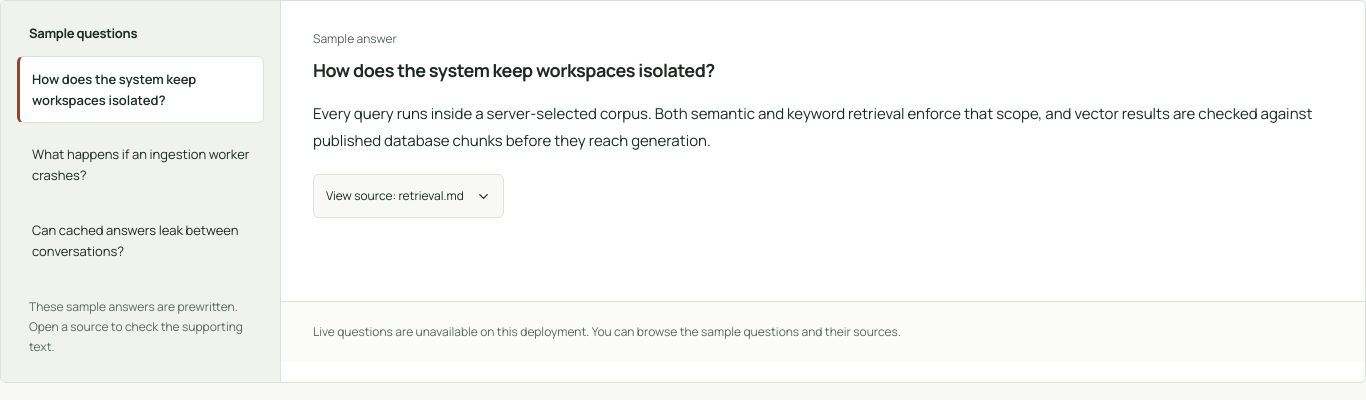
Scenario: public demo › updates the answer and selected question together
Click the button "What happens if an ingestion worker crashes?".
click(140, 165)  # box [17, 132, 264, 199]
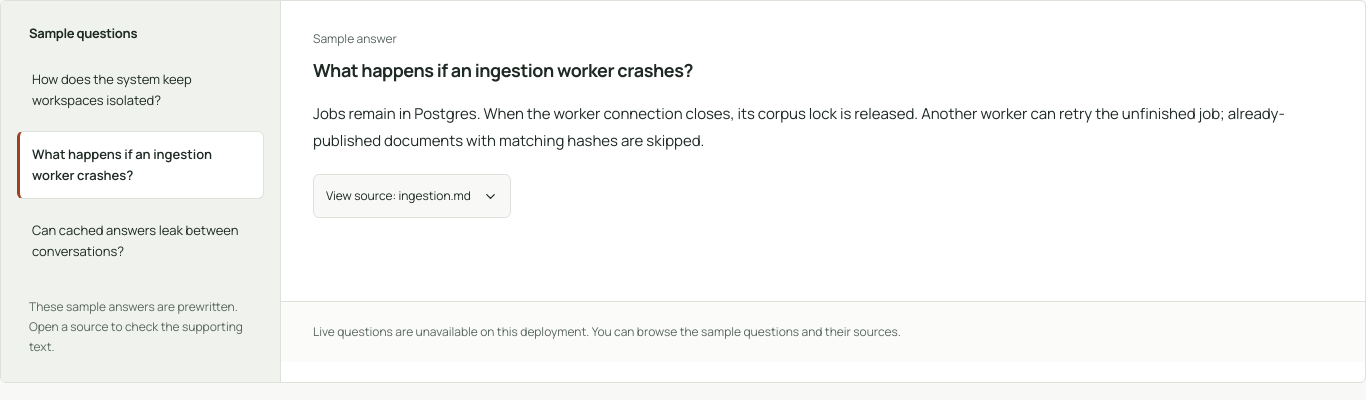
Now the text "Jobs remain in Postgres" is shown, box [313, 103, 1285, 151]
Now the heading "What happens if an ingestion worker crashes?" is shown, box [313, 58, 693, 82]
